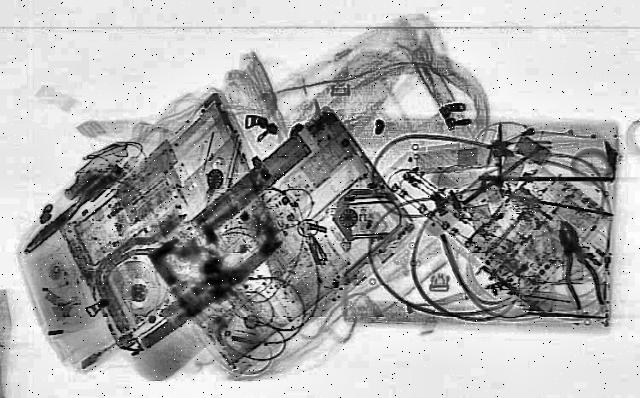Pliers: (544, 219, 606, 309)
